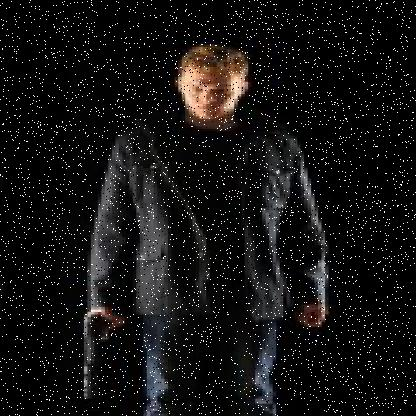pistol: (73, 305, 129, 399)
